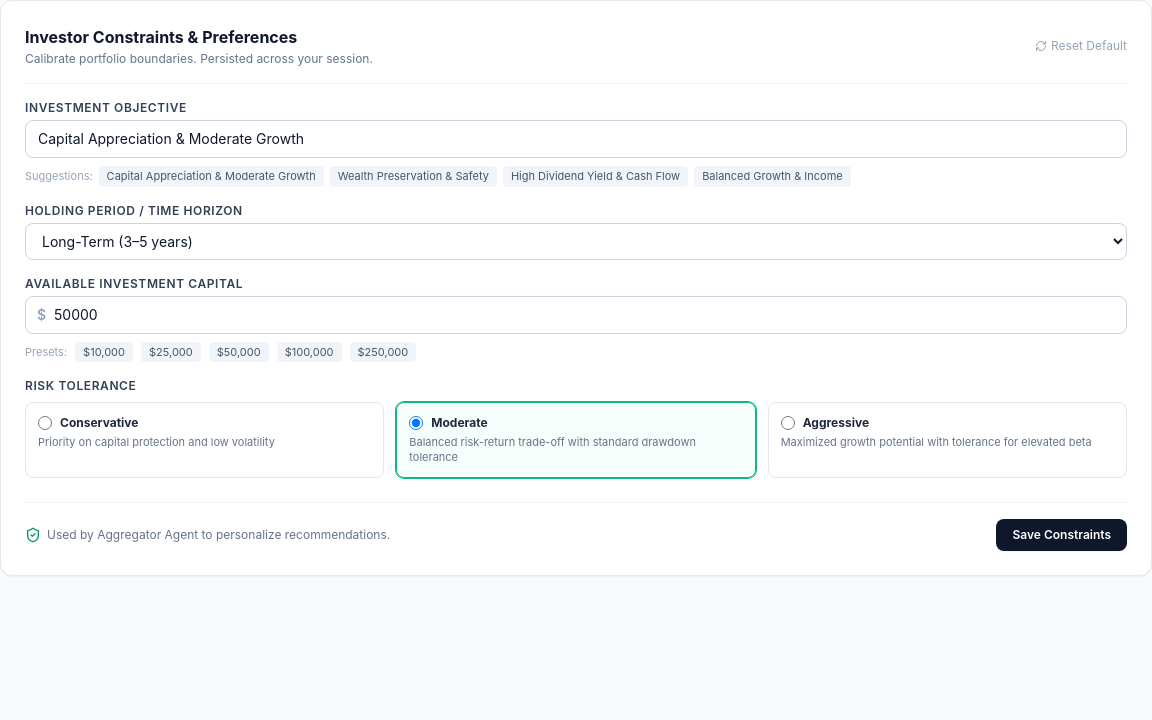
Test: Investor Profile Inputs & Session Persistence (Phase 16.5) › persists validated profile inputs to sessionStorage
The image size is (1152, 720).
Type "150000" into the number field labelled "Available Investment Capital" at (576, 314), box top-left (25, 296), bottom-right (1127, 334)
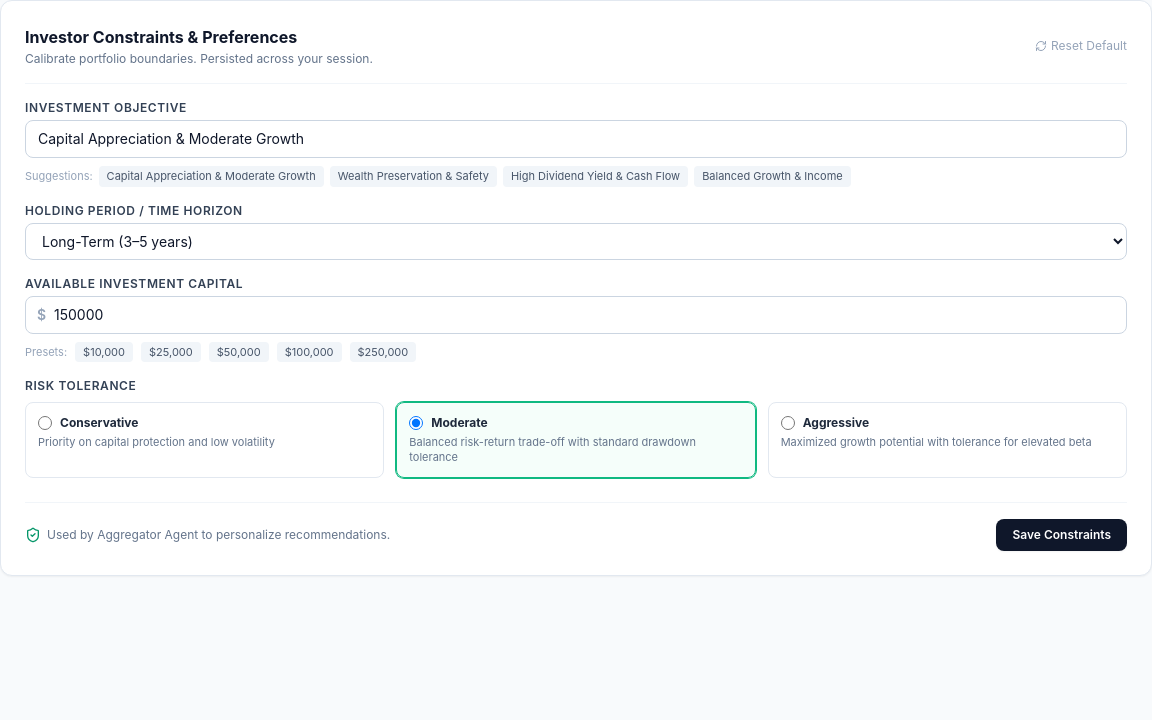
Click the radio button labelled "Aggressive" at (788, 423), box top-left (781, 416), bottom-right (795, 430)
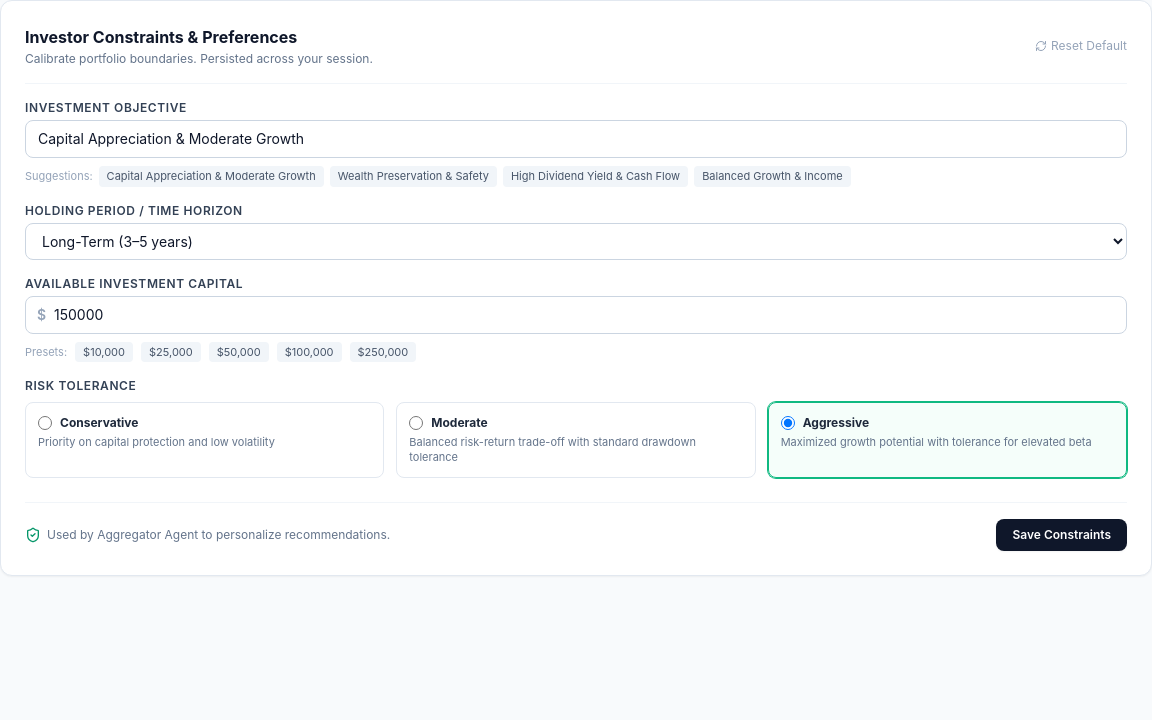
Submit the form with test id "investor-profile-form"
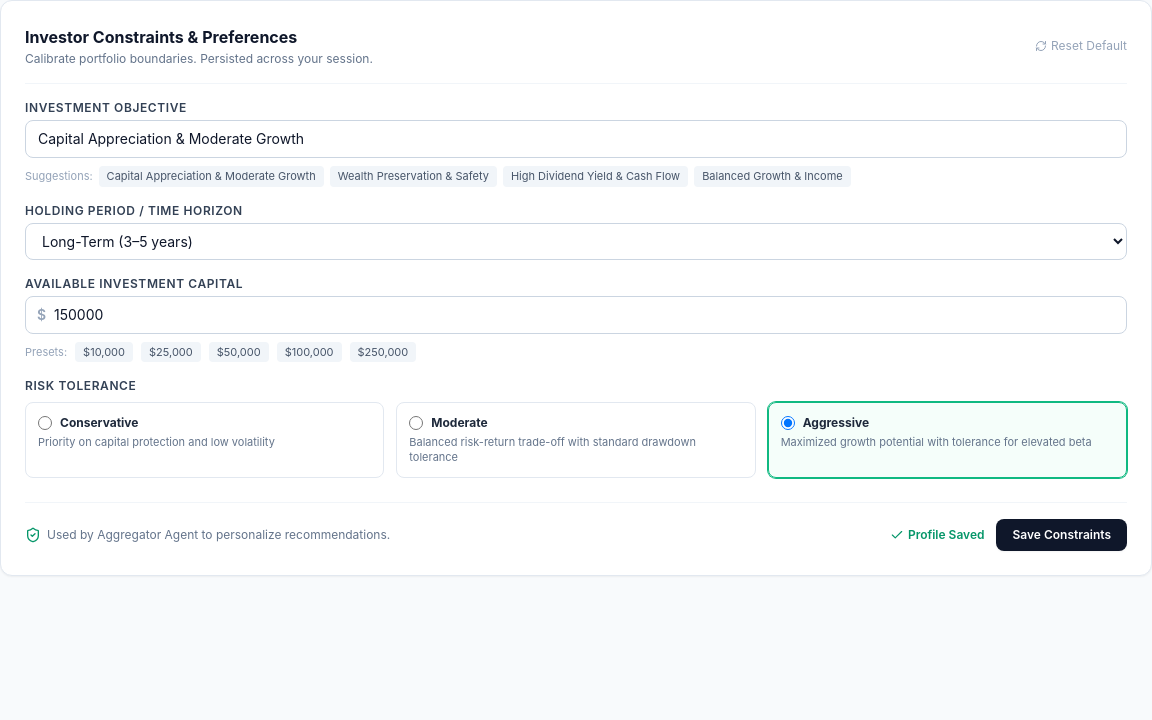
Now the text "Profile Saved" is shown, box top-left (890, 527), bottom-right (984, 543)
